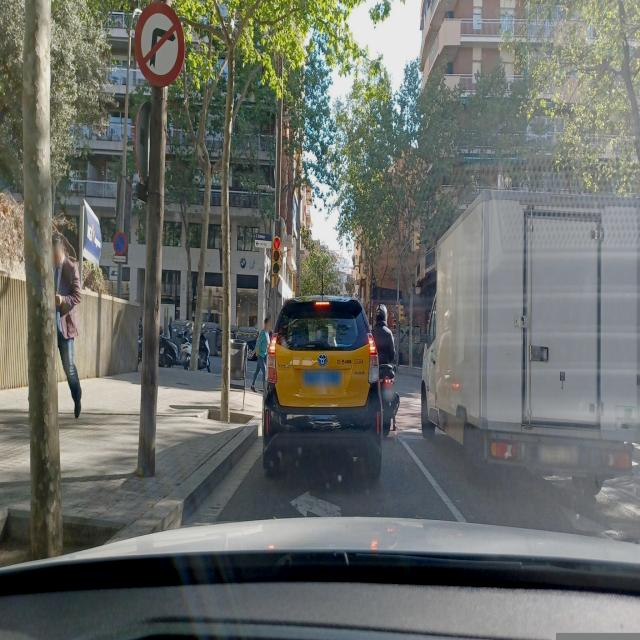bike: (158, 322, 191, 369), (178, 327, 212, 371)
car: (262, 292, 383, 482)
